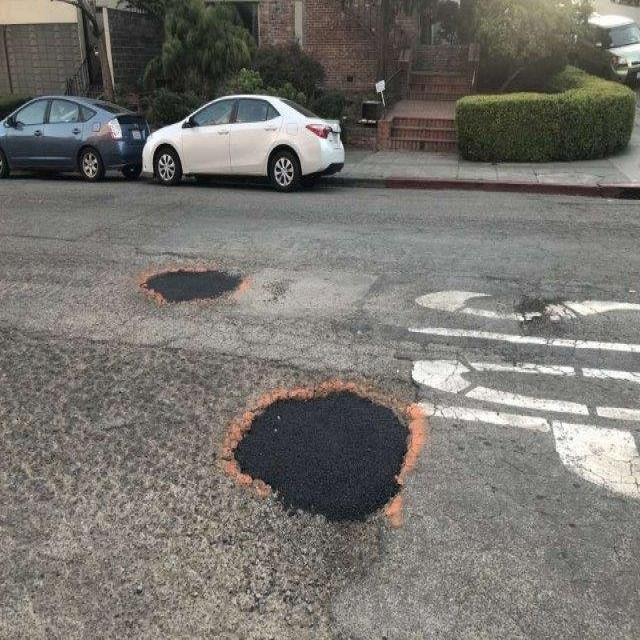jalan retak: (6, 298, 474, 393), (426, 394, 638, 554), (96, 215, 234, 273), (513, 191, 638, 247)
lubang: (480, 261, 608, 384)
